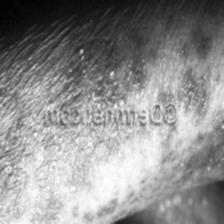Non-Cancerous Skin Condition: (0, 130, 204, 224), (56, 18, 216, 98)
